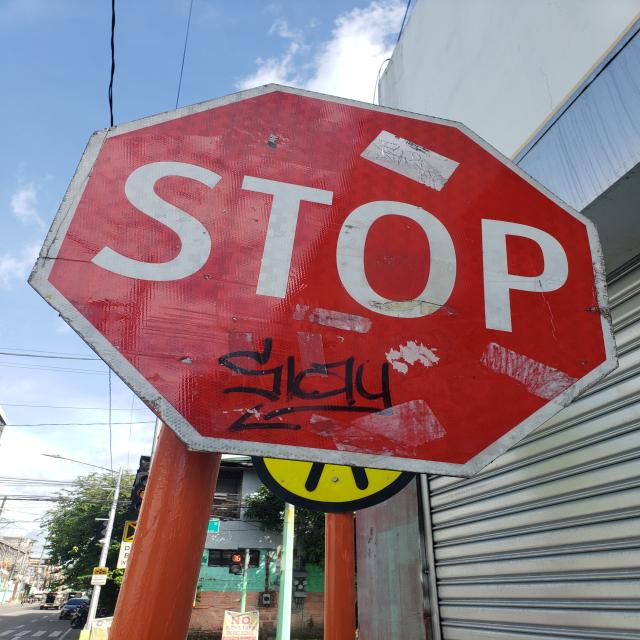stop-sign: (25, 82, 621, 480)
